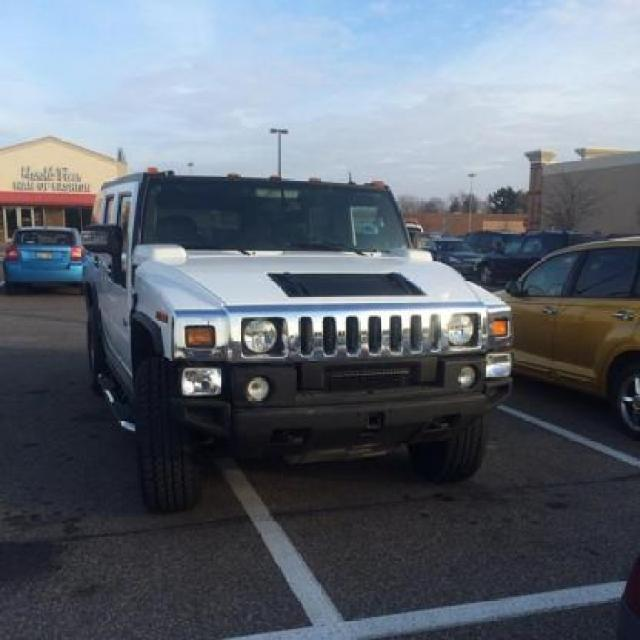License-Plates: (36, 252, 52, 259)
